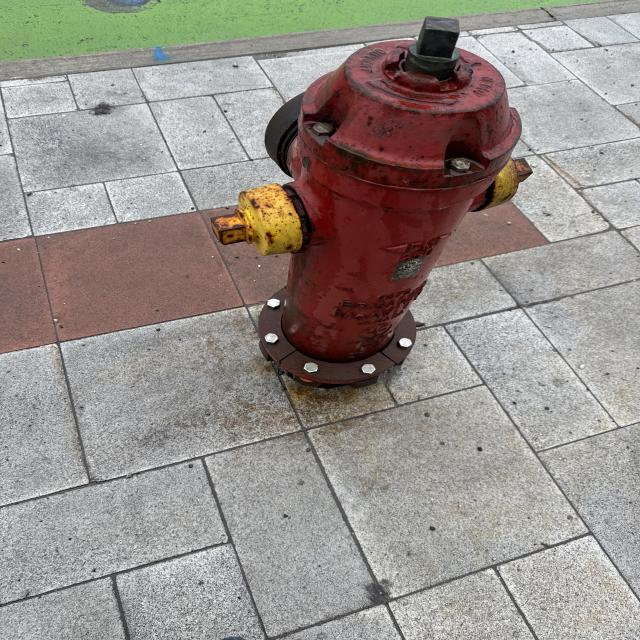Fire hydrant: (210, 14, 534, 391)
